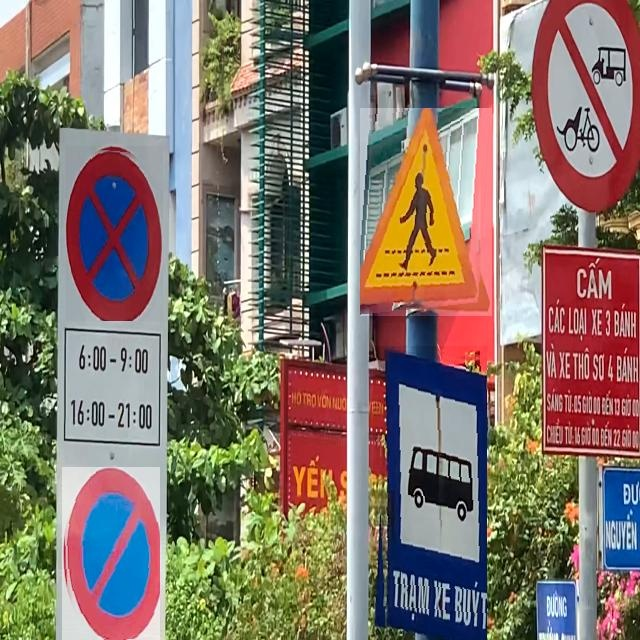bien_nguy_hiem: (373, 346, 487, 640), (360, 108, 492, 316), (66, 146, 163, 321), (62, 467, 160, 640)
